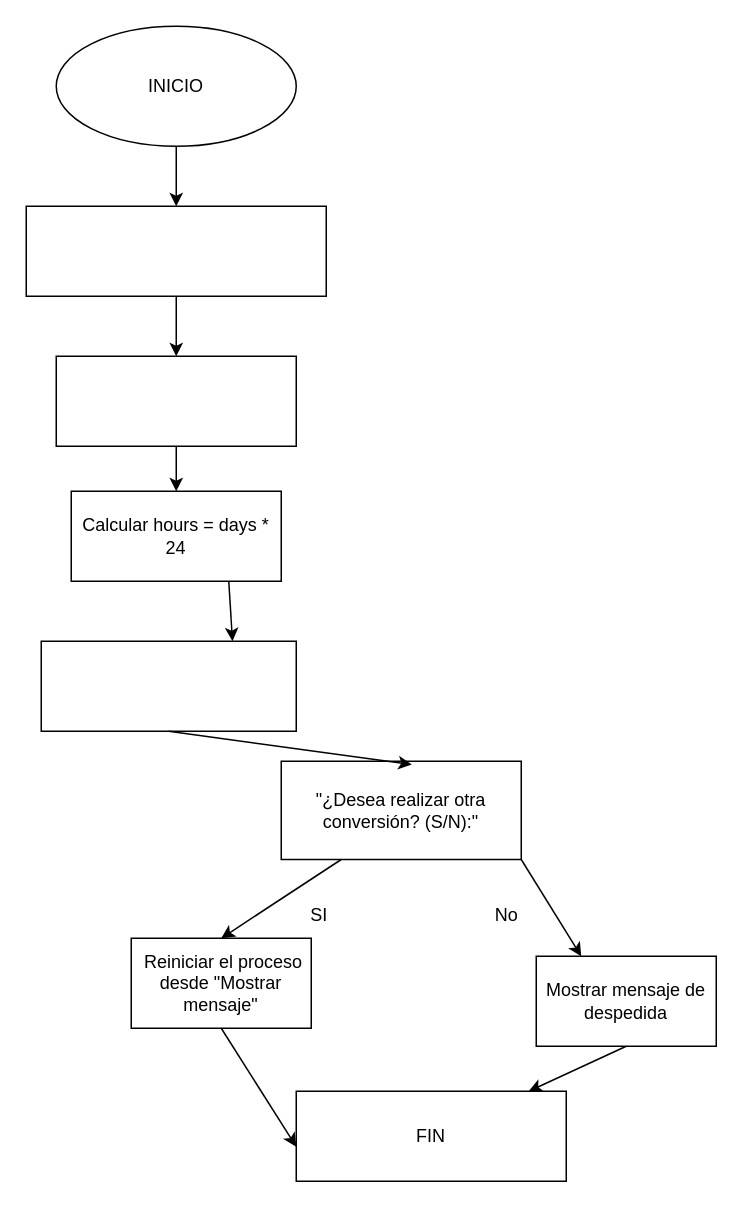
Some shapes in this 743 by 1208 pixel diagram are drawn without their labels. The shapes that lost their labels are listed below. From the top down, each one's box as (x1, y1, x2, y2) in pixels, then its label:
(25, 205, 326, 296): Ingrese la cantidad de días a convertir en horas
(55, 355, 296, 446): input del usuario en la variable days
(40, 640, 296, 731): días equivalen a horas
